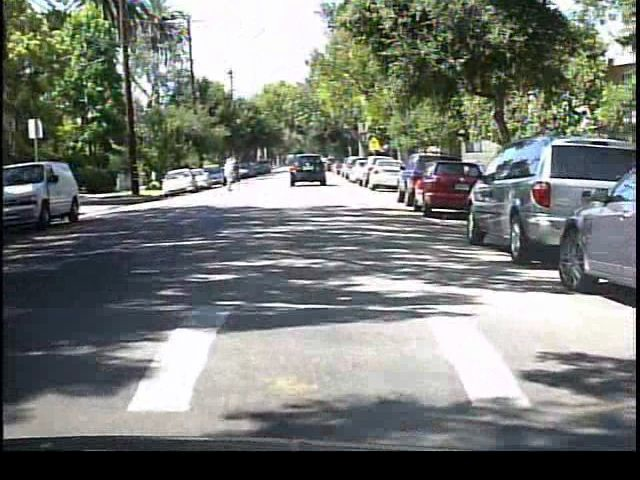person: (219, 152, 241, 194)
